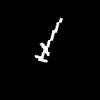double_crochet: (35, 18, 61, 61)
